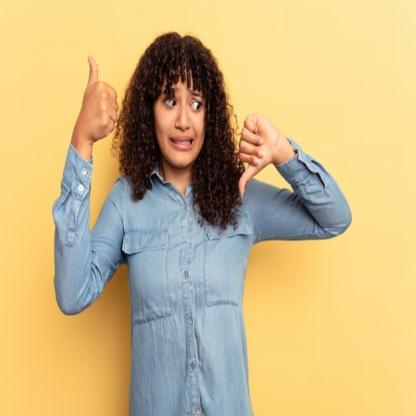thumb_down: (234, 108, 278, 202)
thumb_up: (74, 50, 120, 144)
